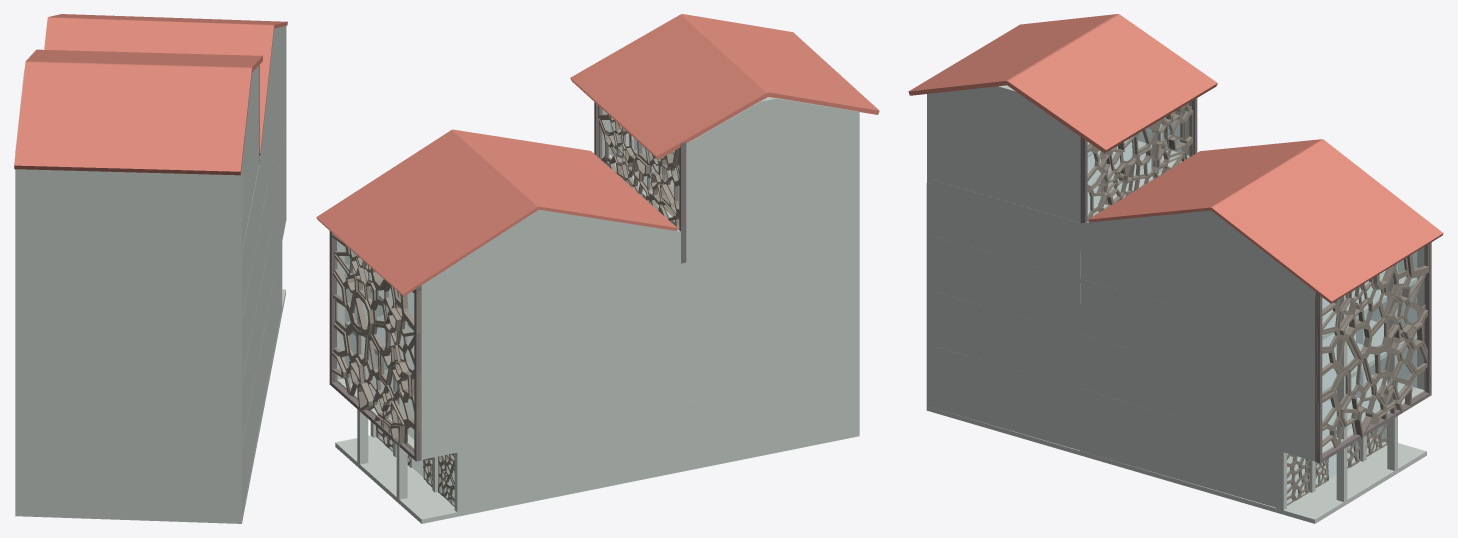
3 views of the same model, side by side, from view 1: azimuth 30°, elevation 25°; view 2: azimuth 150°, elevation 25°; view 3: azimuth 270°, elevation 25° (orthographic). The views are drawn at different scales.
Parts seen in each view (by area): view 1: Object.261, Object.279, Object.374, Object.380, Object.382, Object.260, Object.278, Object.258, Object.384, Object.263, Object.383, Object.264 (+1 smaller); view 2: Object.385, Object.259, Object.380, Object.279, Object.374, Object.387, Object.278, Object.274, Object.386, Object.264, Object.275, Object.263 (+7 smaller); view 3: Object.382, Object.260, Object.380, Object.279, Object.374, Object.278, Object.384, Object.275, Object.264, Object.263, Object.274, Object.262 (+9 smaller).
Part boxes in pixels (bbox=[...]): Object.261: bbox=[15, 252, 242, 518]; Object.279: bbox=[14, 49, 262, 175]; Object.374: bbox=[15, 65, 258, 260]; Object.380: bbox=[44, 14, 287, 155]; Object.382: bbox=[259, 27, 281, 426]; Object.260: bbox=[242, 164, 259, 514]; Object.278: bbox=[15, 289, 285, 523]; Object.258: bbox=[15, 168, 246, 195]; Object.384: bbox=[282, 26, 285, 234]; Object.263: bbox=[15, 188, 279, 386]; Object.383: bbox=[281, 27, 282, 310]; Object.264: bbox=[15, 218, 285, 449]; Object.385: bbox=[465, 209, 686, 510]; Object.259: bbox=[686, 203, 855, 466]; Object.380: bbox=[316, 129, 677, 296]; Object.279: bbox=[570, 14, 879, 159]; Object.374: bbox=[602, 97, 859, 236]; Object.387: bbox=[421, 262, 457, 455]; Object.278: bbox=[335, 432, 859, 523]; Object.274: bbox=[329, 231, 421, 461]; Object.386: bbox=[454, 257, 465, 512]; Object.264: bbox=[337, 368, 859, 459]; Object.275: bbox=[345, 247, 413, 439]; Object.263: bbox=[345, 312, 859, 401]; Object.382: bbox=[1080, 210, 1276, 507]; Object.260: bbox=[930, 179, 1080, 450]; Object.380: bbox=[1088, 139, 1443, 303]; Object.279: bbox=[908, 14, 1217, 153]; Object.374: bbox=[927, 85, 1189, 222]; Object.278: bbox=[926, 406, 1426, 523]; Object.384: bbox=[1283, 267, 1315, 456]; Object.275: bbox=[1322, 251, 1416, 441]; Object.264: bbox=[926, 344, 1424, 461]; Object.263: bbox=[926, 289, 1417, 404]; Object.274: bbox=[1315, 242, 1431, 463]; Object.262: bbox=[926, 234, 1417, 348].
Size of the model in its own units: 2.52 by 2.17 by 2.97.
